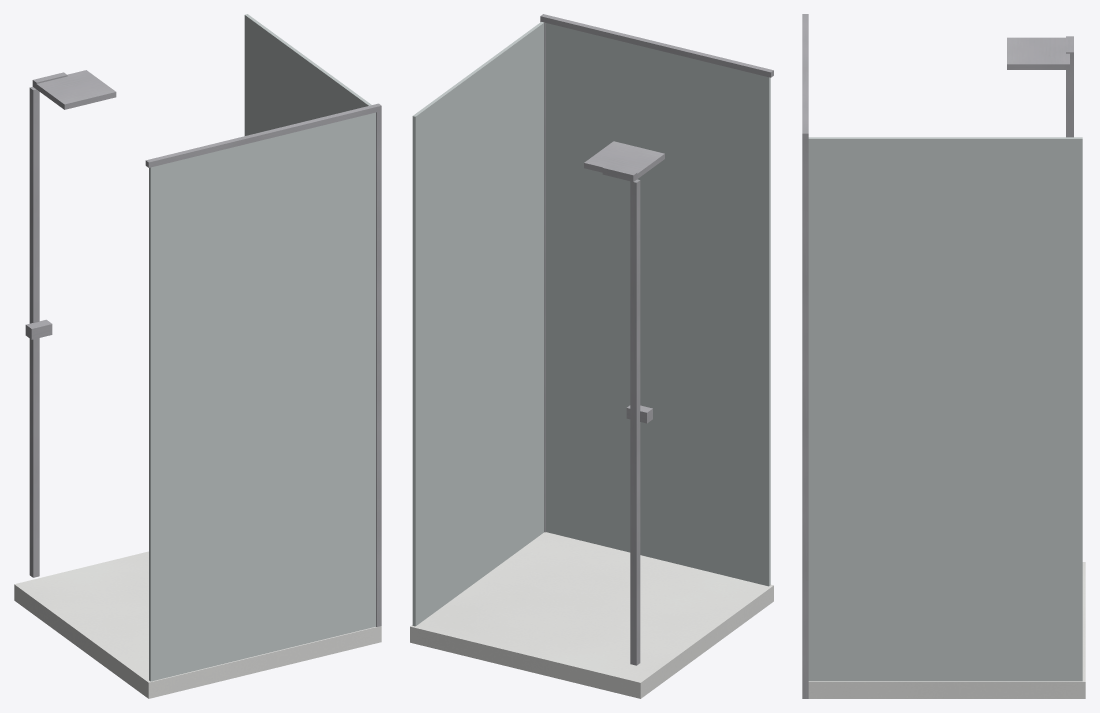
The picture shows the model from 3 angles, left to right: view 1: azimuth 30°, elevation 25°; view 2: azimuth 150°, elevation 25°; view 3: azimuth 270°, elevation 25°; orthographic projection. The views are drawn at different scales.
Visible parts, largest first — view 1: Shower_Game; view 2: Shower_Game; view 3: Shower_Game.
Part boxes in pixels (box(x1,y1,x2,y2)): Shower_Game: box(14, 14, 381, 698); Shower_Game: box(410, 14, 773, 698); Shower_Game: box(802, 14, 1085, 698).
Size of the model in its own units: 0.9 by 1.98 by 0.9.
3 materials, 2 textured.
